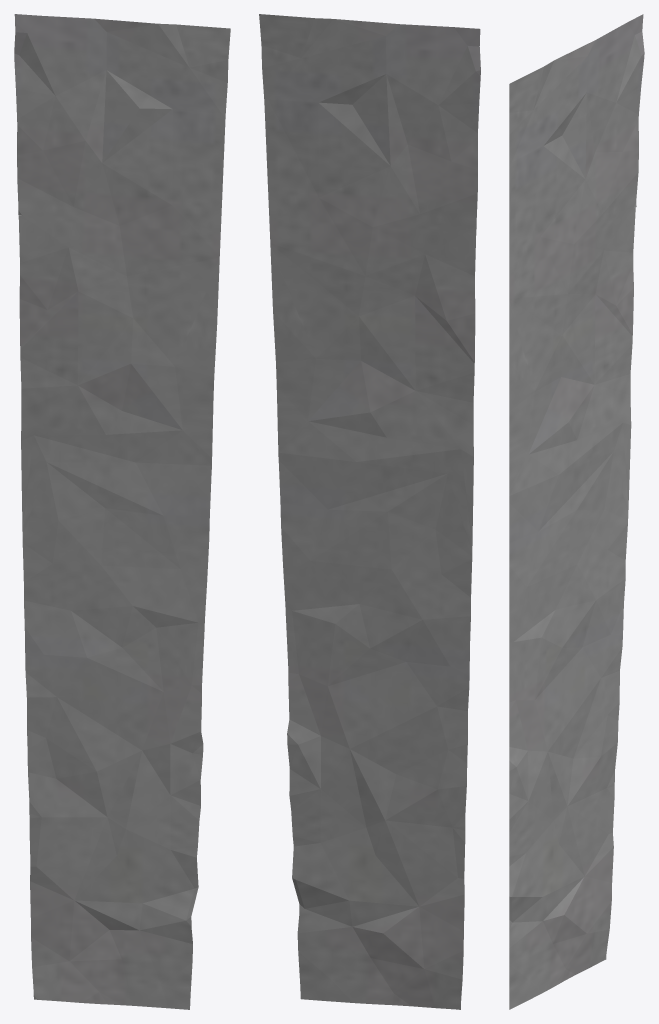
The picture shows the model from 3 angles, left to right: view 1: azimuth 30°, elevation 25°; view 2: azimuth 210°, elevation 25°; view 3: azimuth 270°, elevation 25°; orthographic projection. The views are drawn at different scales.
Bounding box in the file's own units: 0.1328 × 0.8374 × 0.1086.
Materials: 1 (1 with a texture image).
